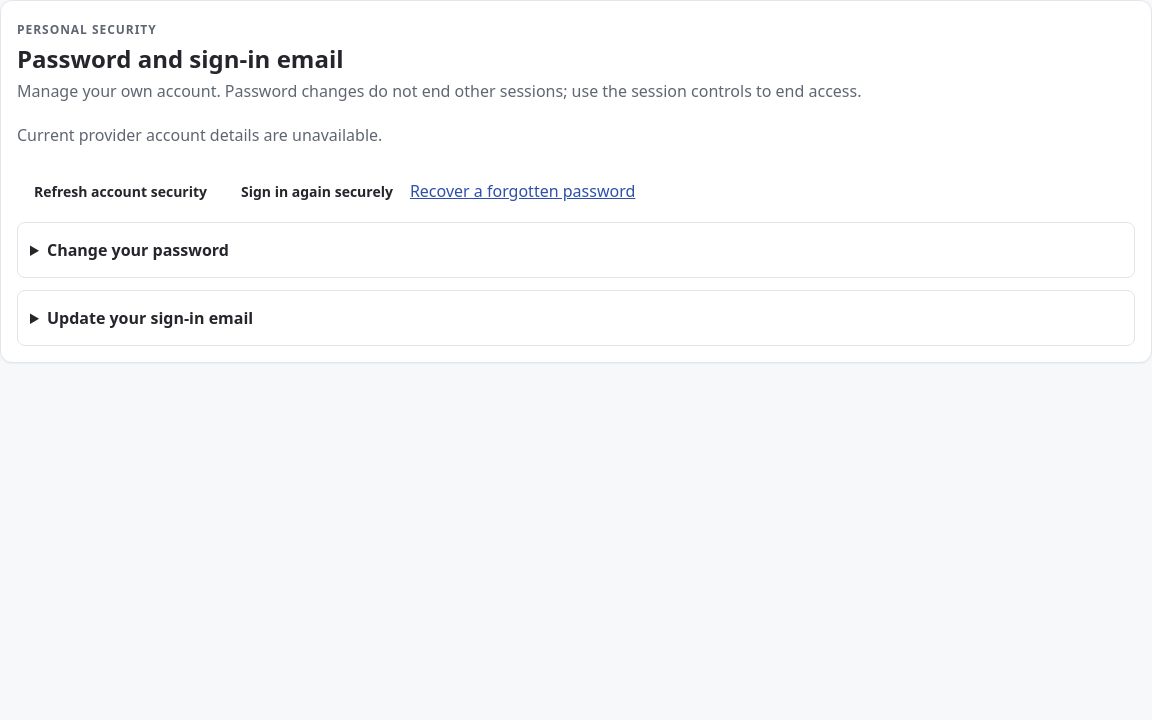
Test case: personal password and email controls › uses an account fence and clears credentials without creating a mutation cache entry
Click the heading "Change your password" at [138, 250], box [47,239,229,261]
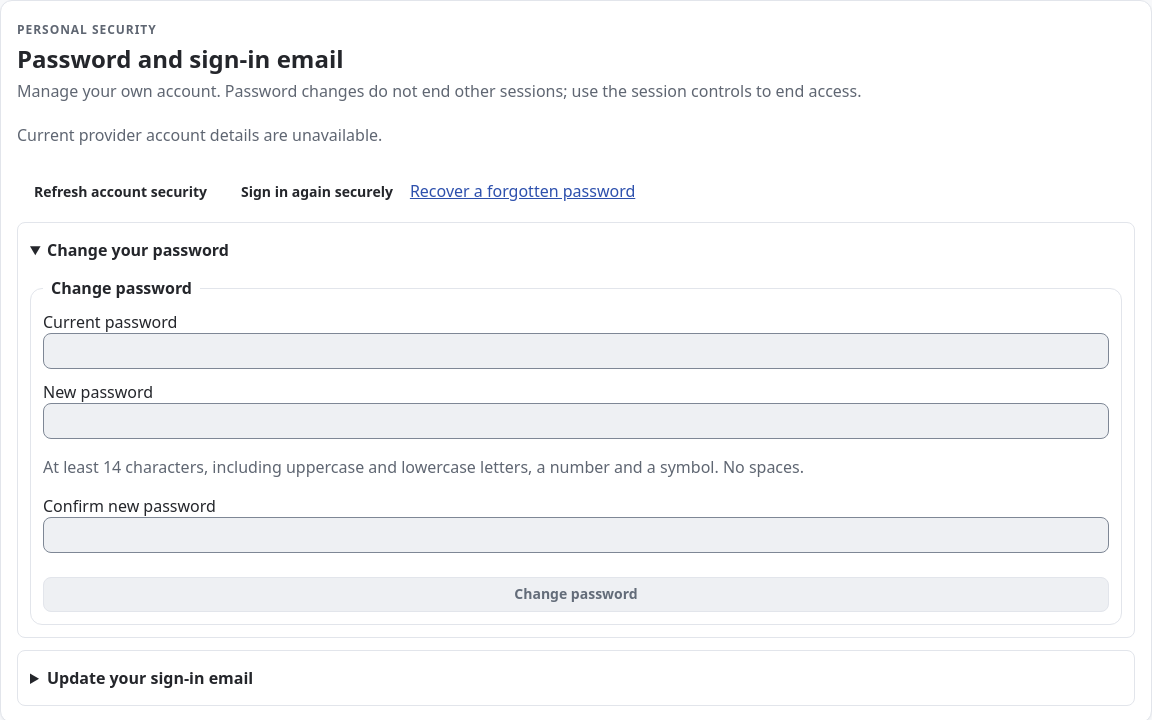
Click the heading "Update your sign-in email" at [150, 678], box [47,667,253,689]
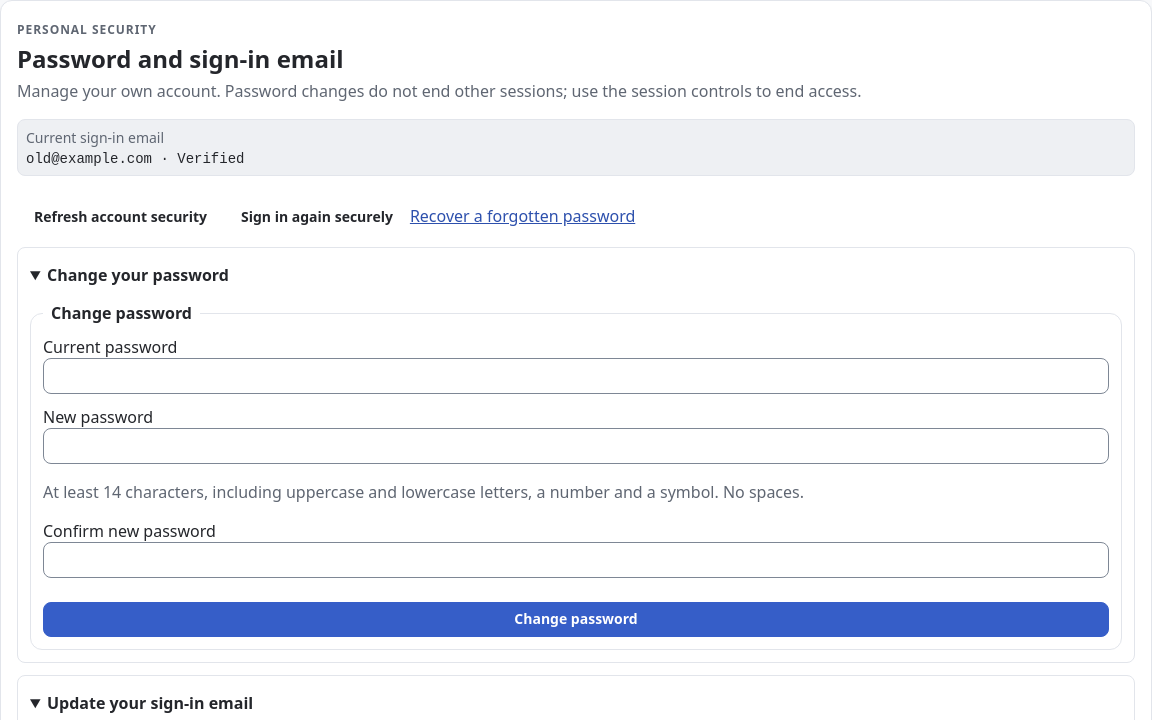
Result: the button "Change password" is enabled at [43,602,1109,637]
Type "Synthetic-old-Password1!" into the password field labelled "Current password" at [576, 376], box [43,358,1109,394]
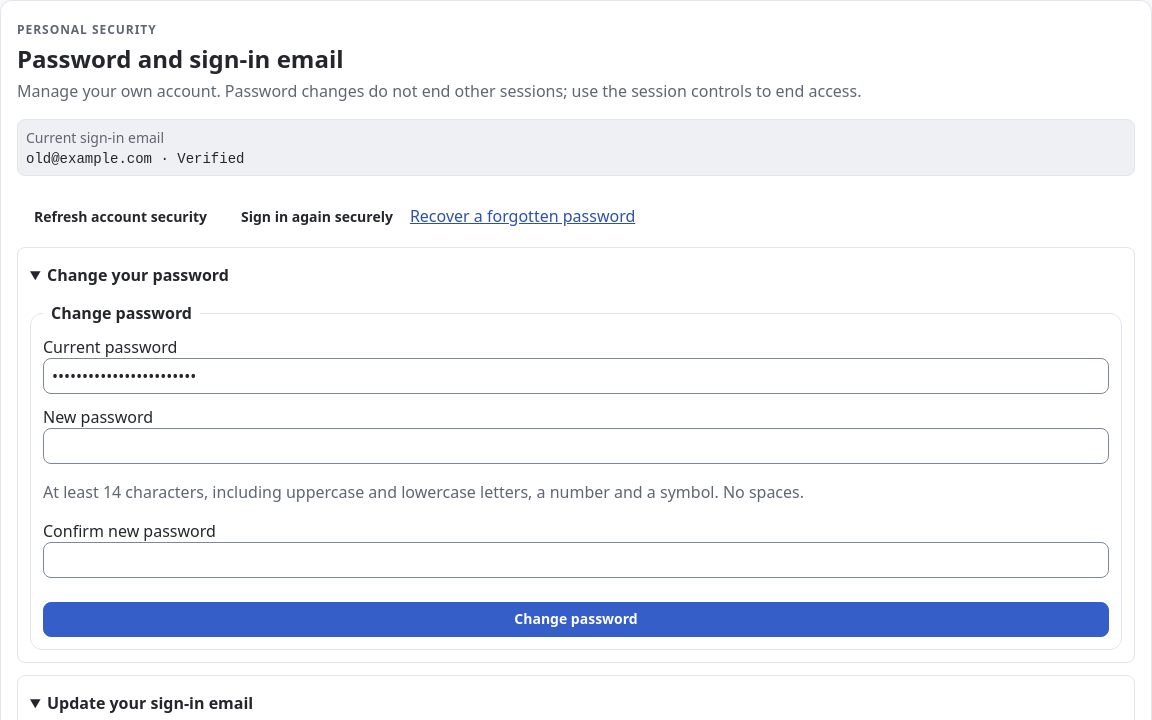
Type "Synthetic-new-Password2!" into the password field labelled "New password" at [576, 446], box [43,428,1109,464]
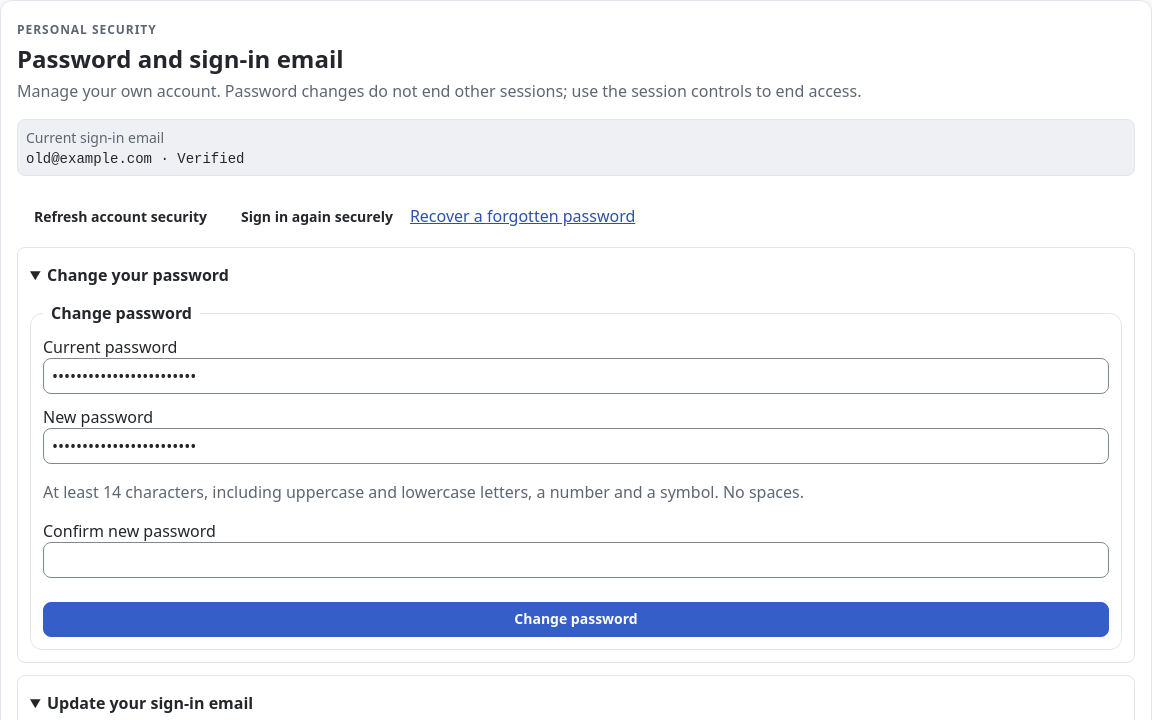
Type "Synthetic-new-Password2!" into the password field labelled "Confirm new password" at [576, 560], box [43,542,1109,578]
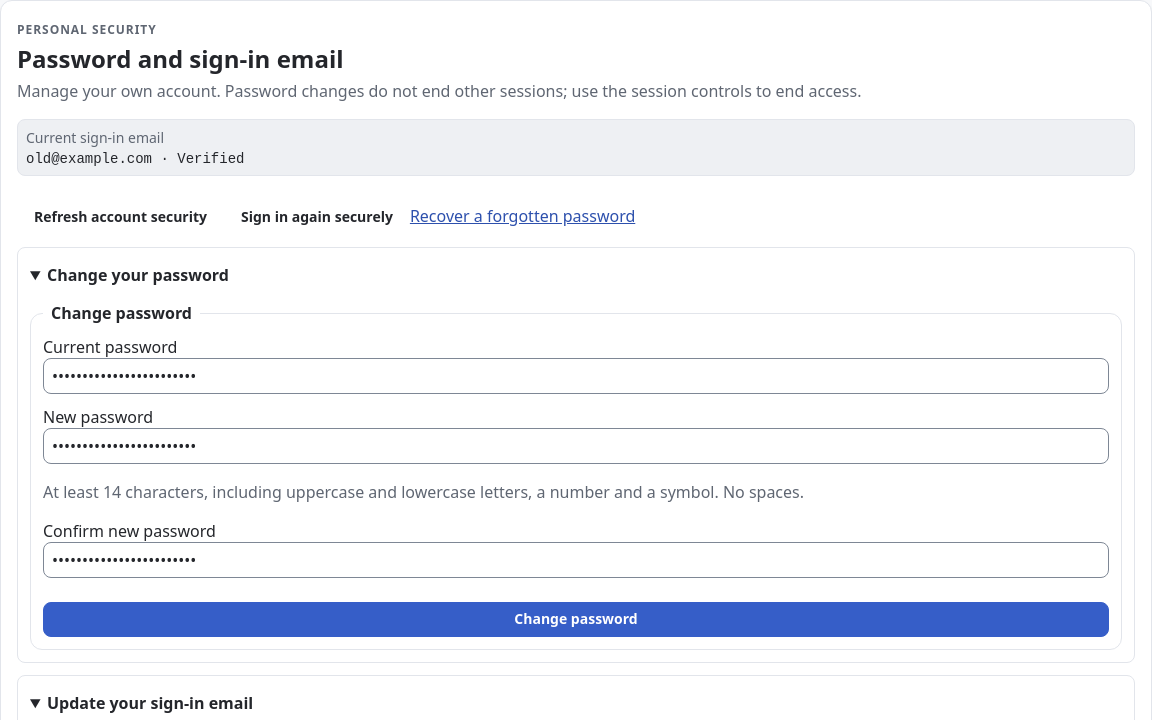
Click the button "Change password" at [576, 620], box [43,602,1109,637]
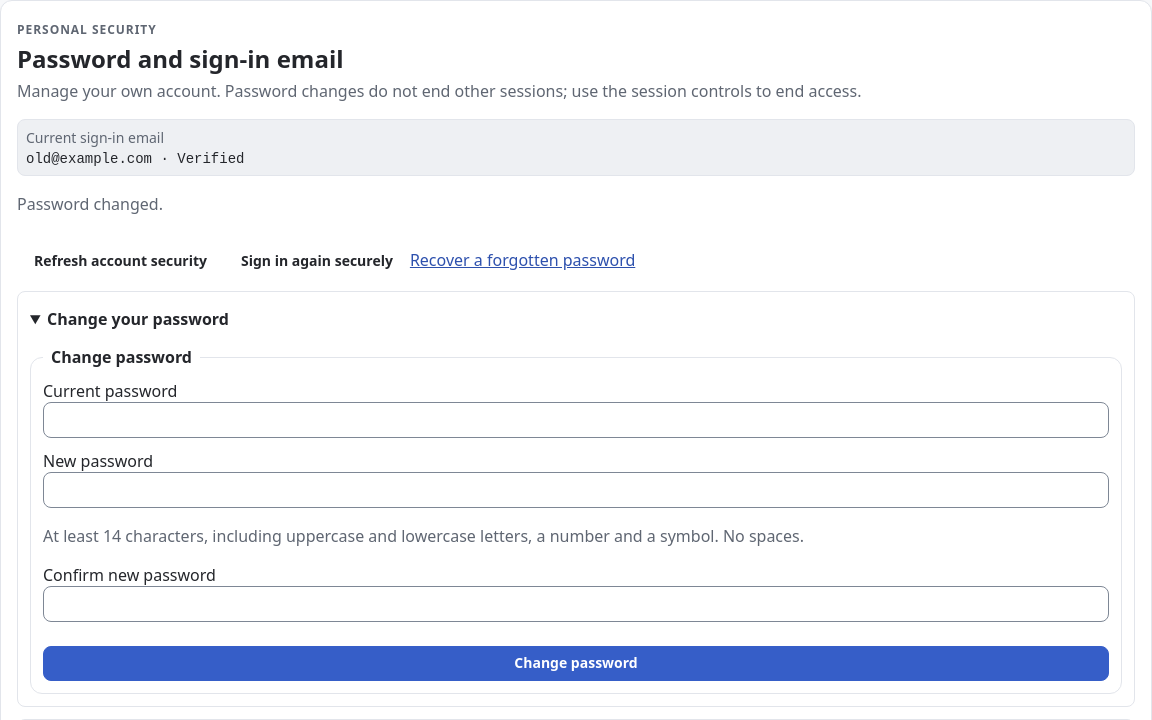
Result: the password field labelled "Current password" is empty at [43,402,1109,438]
Result: the password field labelled "New password" is empty at [43,472,1109,508]
Result: the text "Password changed." is shown at [17,193,163,215]
